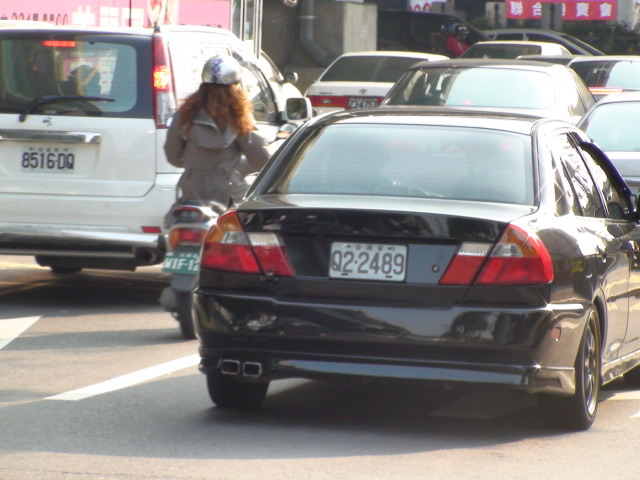plate: (329, 237, 409, 285), (19, 145, 77, 176), (346, 94, 380, 116)
